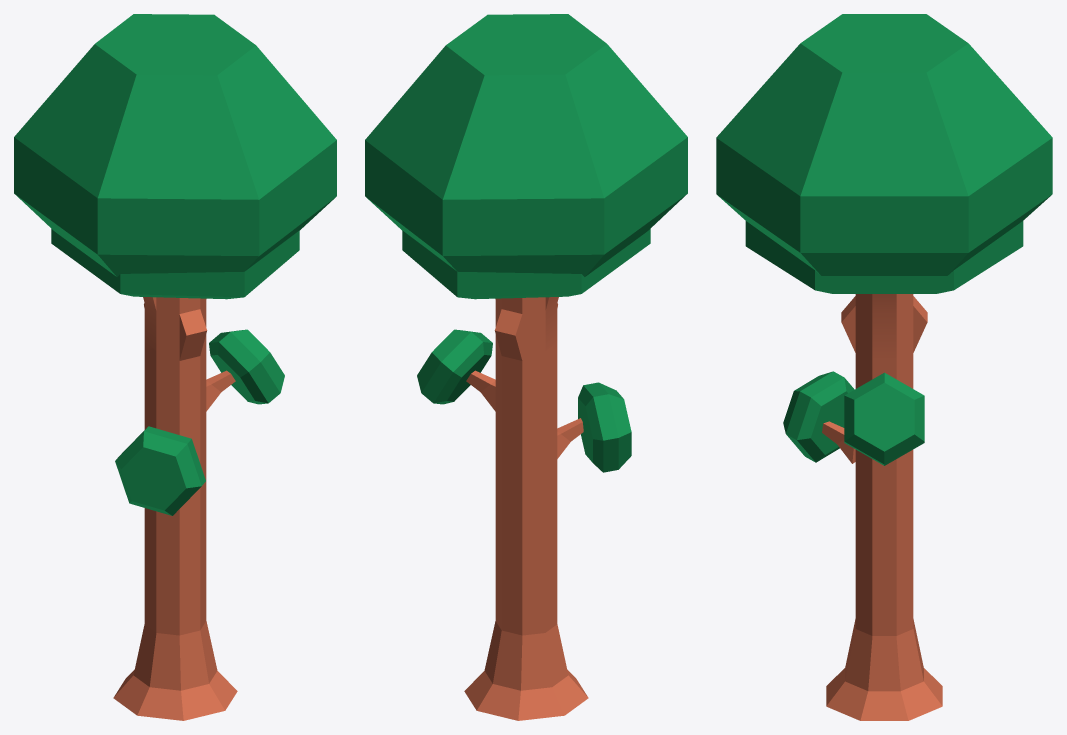
The model's file is leaftreebig2var.fbx.
3 renders of one model, left to right at view 1: azimuth 30°, elevation 25°; view 2: azimuth 150°, elevation 25°; view 3: azimuth 270°, elevation 25°, orthographic.
Parts seen in each view (by area): view 1: leafs_cone, leafs_round (×3), trunk (×2), trunk_base, trunk_detailedB, tree_branchShortBend; view 2: leafs_cone, trunk (×2), leafs_round (×3), trunk_base, trunk_detailedB, tree_branchShortBend (×2); view 3: leafs_cone, leafs_round (×3), trunk (×2), trunk_base, trunk_detailedB, tree_branchShortBend.
Boxes of the visible parts, x1,y1,x2,y2 form: leafs_cone: [14, 14, 336, 276]; leafs_round (×3): [51, 229, 299, 515]; trunk (×2): [144, 343, 206, 635]; trunk_base: [113, 621, 237, 720]; trunk_detailedB: [143, 297, 207, 360]; tree_branchShortBend: [206, 370, 235, 411]; leafs_cone: [365, 14, 687, 276]; trunk (×2): [495, 344, 557, 635]; leafs_round (×3): [402, 229, 650, 472]; trunk_base: [464, 621, 588, 720]; trunk_detailedB: [494, 297, 558, 360]; tree_branchShortBend (×2): [466, 370, 583, 458]; leafs_cone: [716, 14, 1052, 275]; leafs_round (×3): [745, 221, 1023, 465]; trunk (×2): [855, 353, 913, 635]; trunk_base: [826, 619, 942, 720]; trunk_detailedB: [841, 294, 927, 360]; tree_branchShortBend: [822, 421, 855, 463].
Bounding box in the file's own units: 17.33 × 45 × 21.02.
